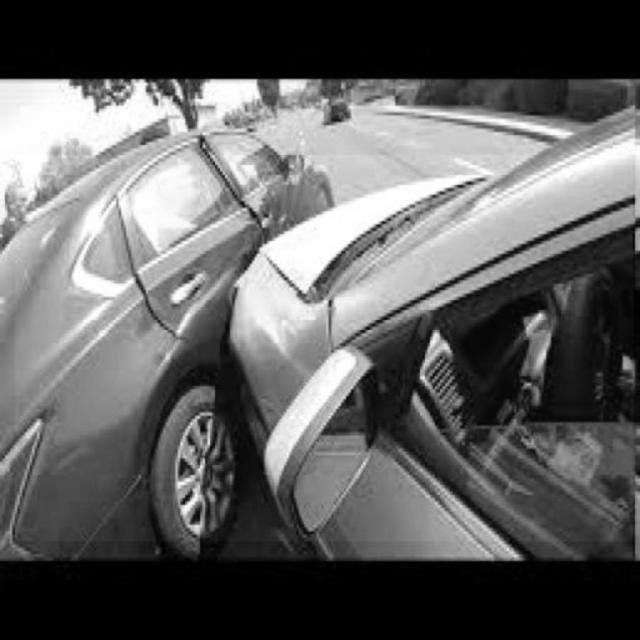accident: (15, 156, 633, 542)
